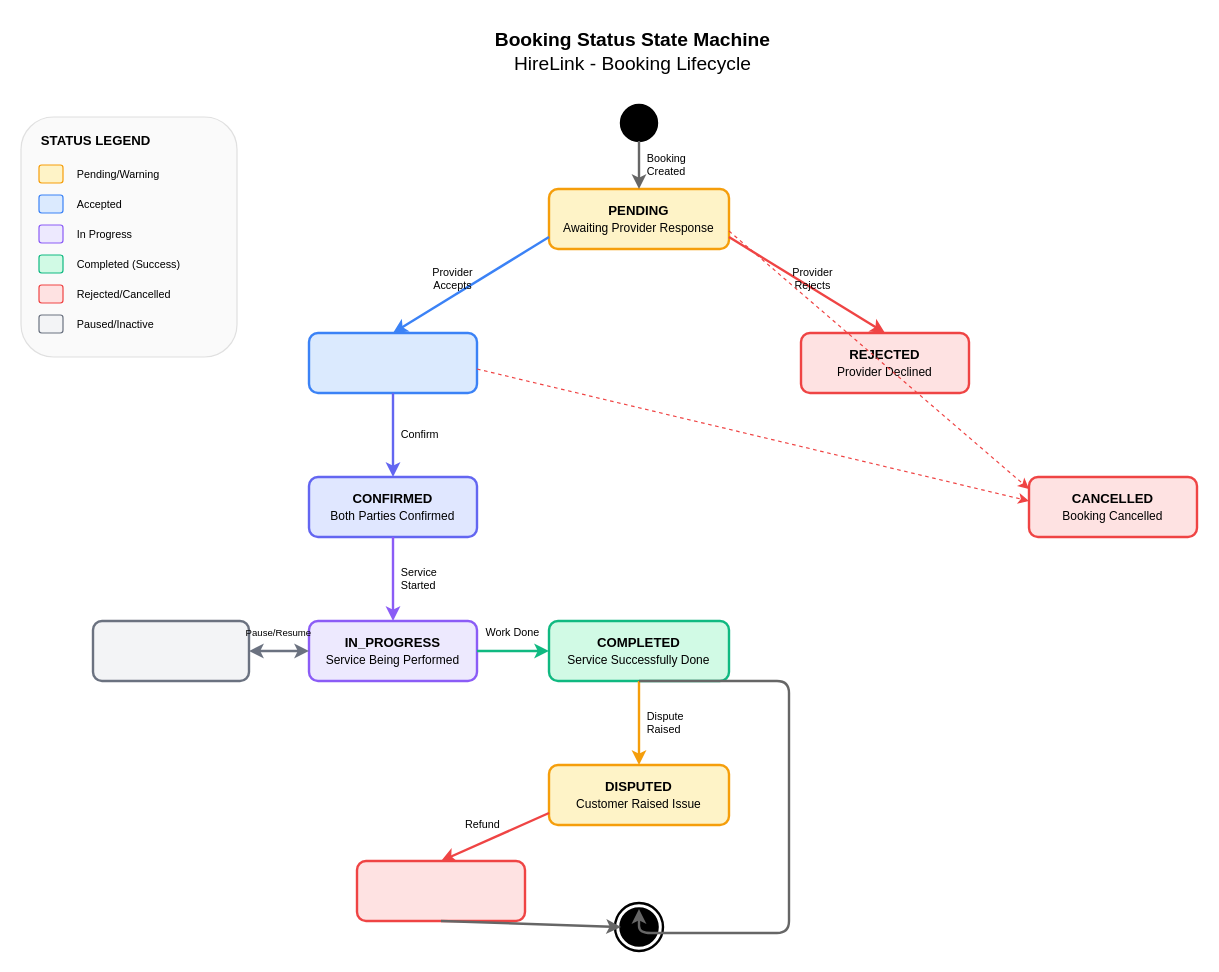
Some shapes in this 1219 by 972 pixel diagram are drawn without their labels. Here are the shapes that lost their labels. From the top down, the centre of each, then its label:
At point (392, 362): "ACCEPTED Provider Accepted".
At point (170, 650): "PAUSED Work Temporarily Paused".
At point (440, 890): "REFUNDED Payment Refunded".
